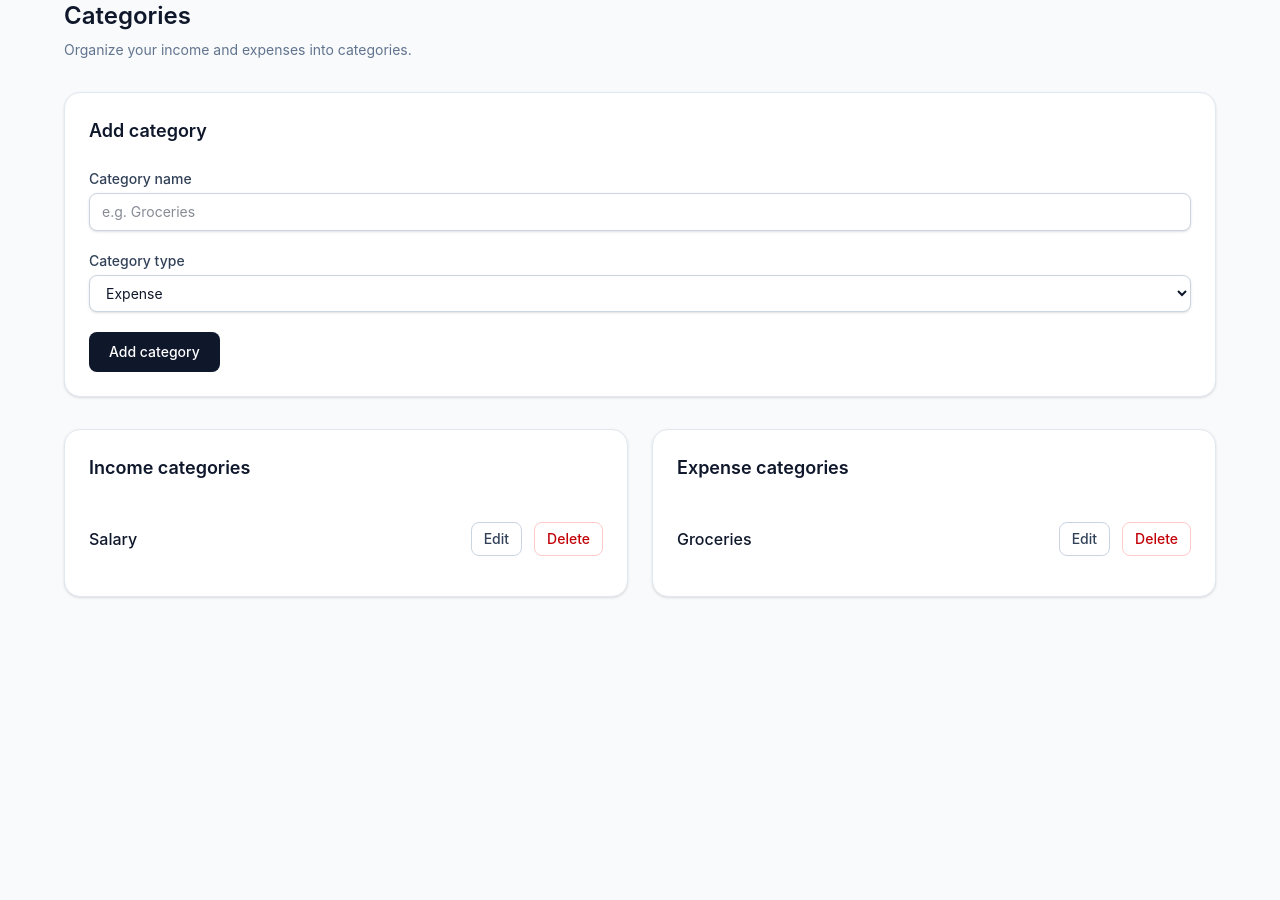
Scenario: CategoriesPage › updates a category with the edited values
Click the button "Edit" in the row of "Groceries": click(1084, 539) [1059,522,1110,556]
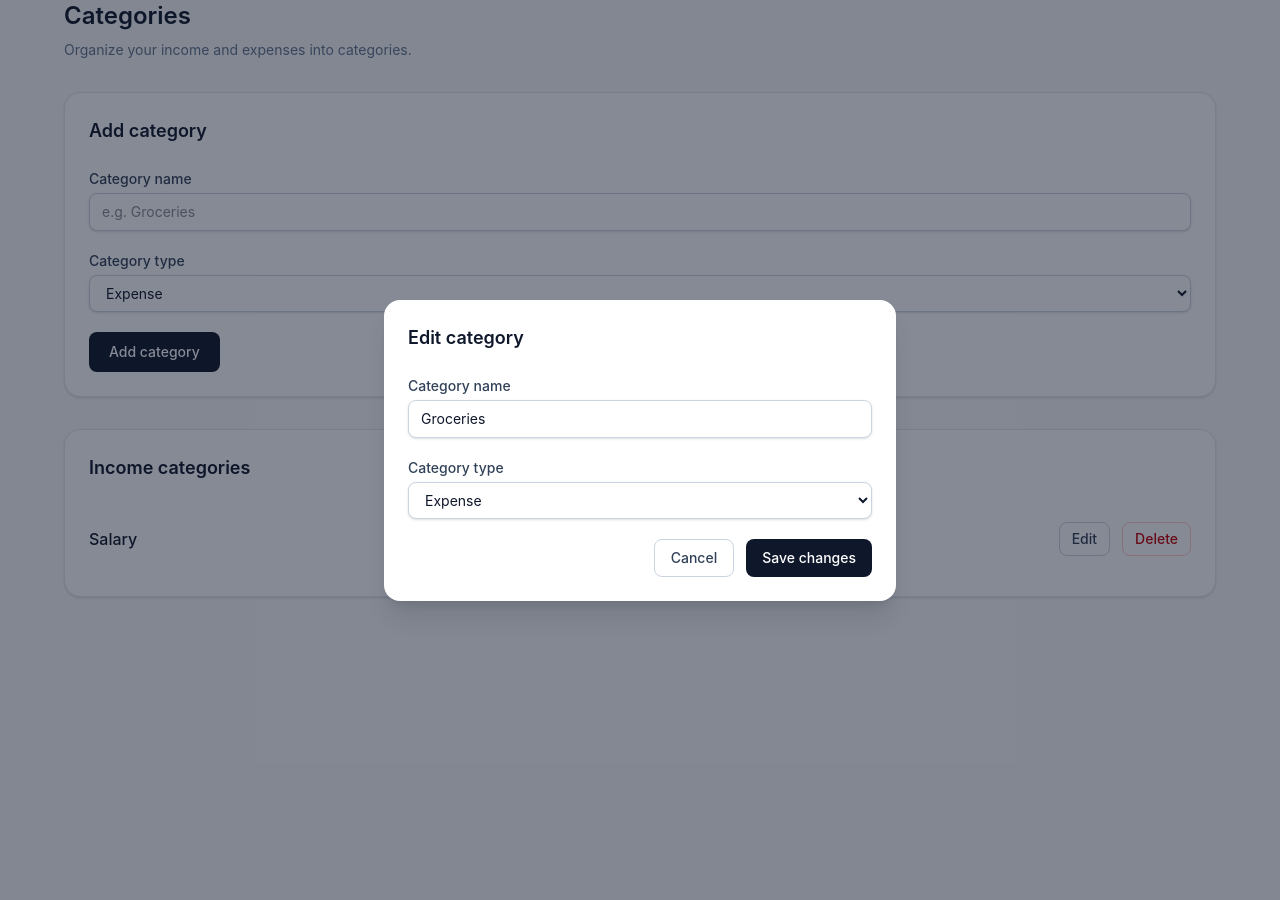
Replace the text in the field labelled "Category name" with "Food": (640, 418) [408,400,872,438]
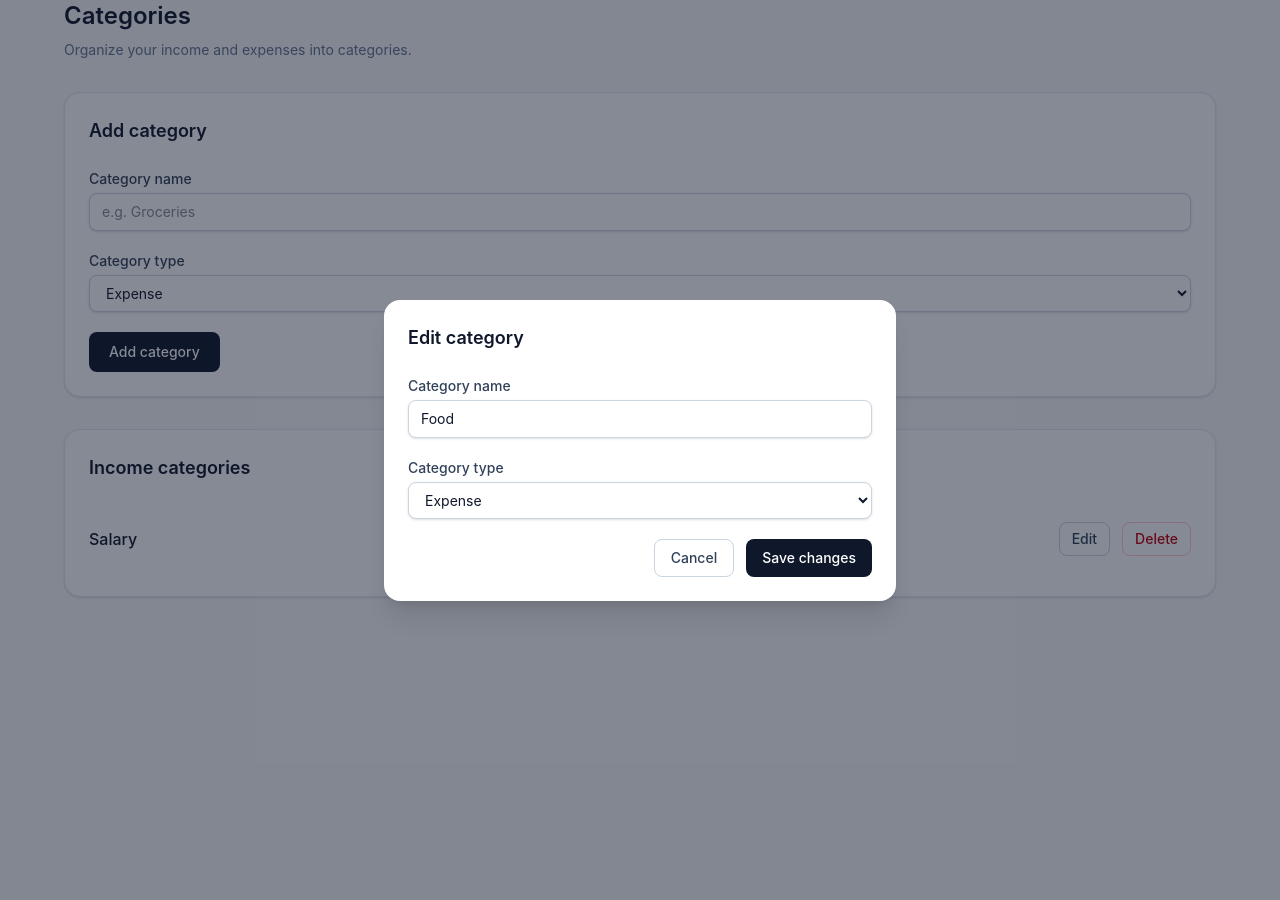
Select "Income" in the dropdown labelled "Category type": (640, 500) [408,482,872,518]
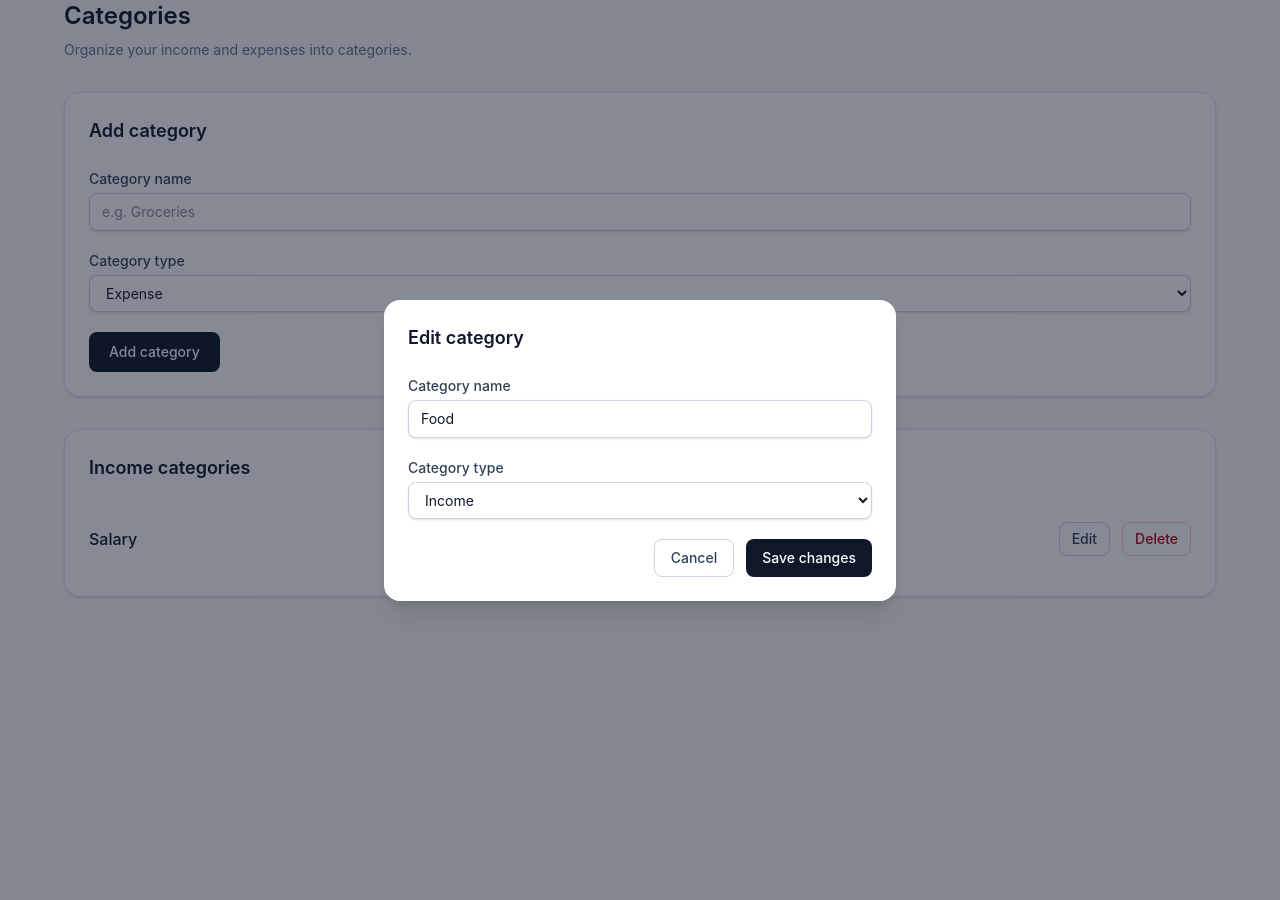
Click the button "Save changes": click(809, 558) [746,538,872,576]
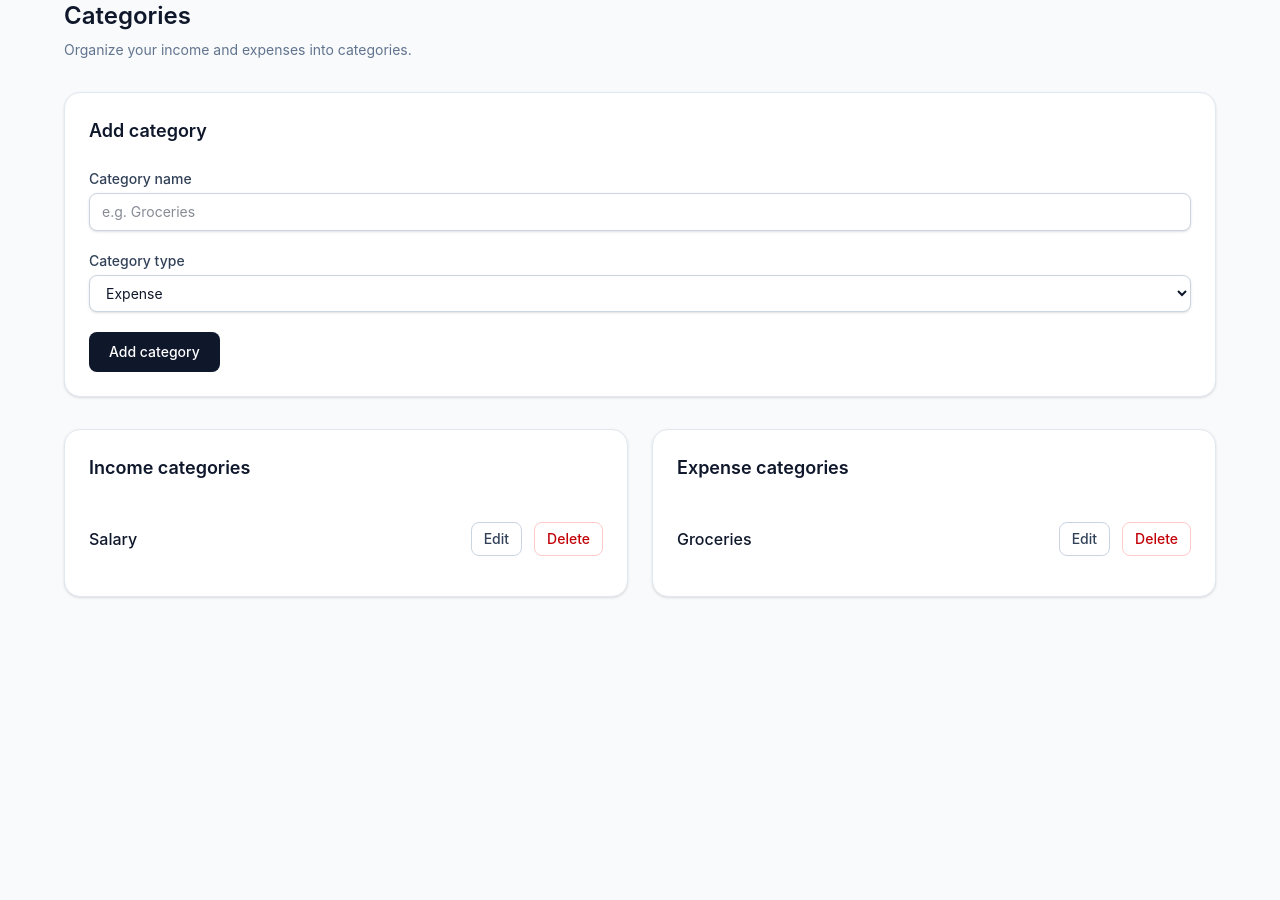
Check: the dialog is gone
